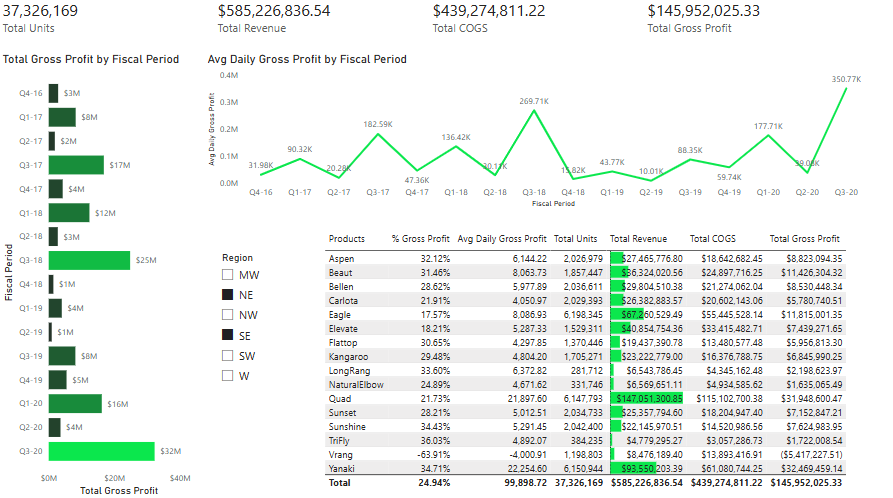

The dashboard page shown, as its layout file describes it:
{"tool":"powerbi","page":{"name":"Fiscal Report","canvas":[1280,720],"ordinal":1},"visuals":[{"type":"barChart","fields":{"Y":["fTransactions.Total Gross Profit"],"Category":["dDate.Fiscal Period"]},"box":[0,80,293.3,640],"z":0},{"type":"lineChart","fields":{"Category":["dDate.Fiscal Period"],"Y":["fTransactions.Avg Daily Gross Profit"]},"box":[293.3,80,945,226.7],"z":1000},{"type":"tableEx","fields":{"Values":["dProduct.Products","fTransactions.% Gross Profit","fTransactions.Avg Daily Gross Profit","fTransactions.Total Units","fTransactions.Total Revenue","fTransactions.Total COGS","fTransactions.Total Gross Profit"]},"box":[460,331.7,778.3,388.3],"z":2000},{"type":"slicer","fields":{"Values":["dSalesReps.Region"]},"box":[305,360,155,231.7],"z":3000},{"type":"multiRowCard","fields":{"Values":["fTransactions.Total Units","fTransactions.Total Revenue","fTransactions.Total COGS","fTransactions.Total Gross Profit"]},"box":[0,0,1238.3,80],"z":4000}]}

Visuals, with their boxes in screenshot pixels (x1, y1, x2, y2), scaled from the page's 1280x720 canvas onto the 893x498 screenshot:
barChart - fTransactions.Total Gross Profit x dDate.Fiscal Period: (x1=0, y1=55, x2=205, y2=497)
lineChart - dDate.Fiscal Period x fTransactions.Avg Daily Gross Profit: (x1=205, y1=55, x2=864, y2=212)
tableEx - dProduct.Products x fTransactions.% Gross Profit: (x1=321, y1=229, x2=864, y2=497)
slicer - dSalesReps.Region: (x1=213, y1=249, x2=321, y2=409)
multiRowCard - fTransactions.Total Units x fTransactions.Total Revenue: (x1=0, y1=0, x2=864, y2=55)
